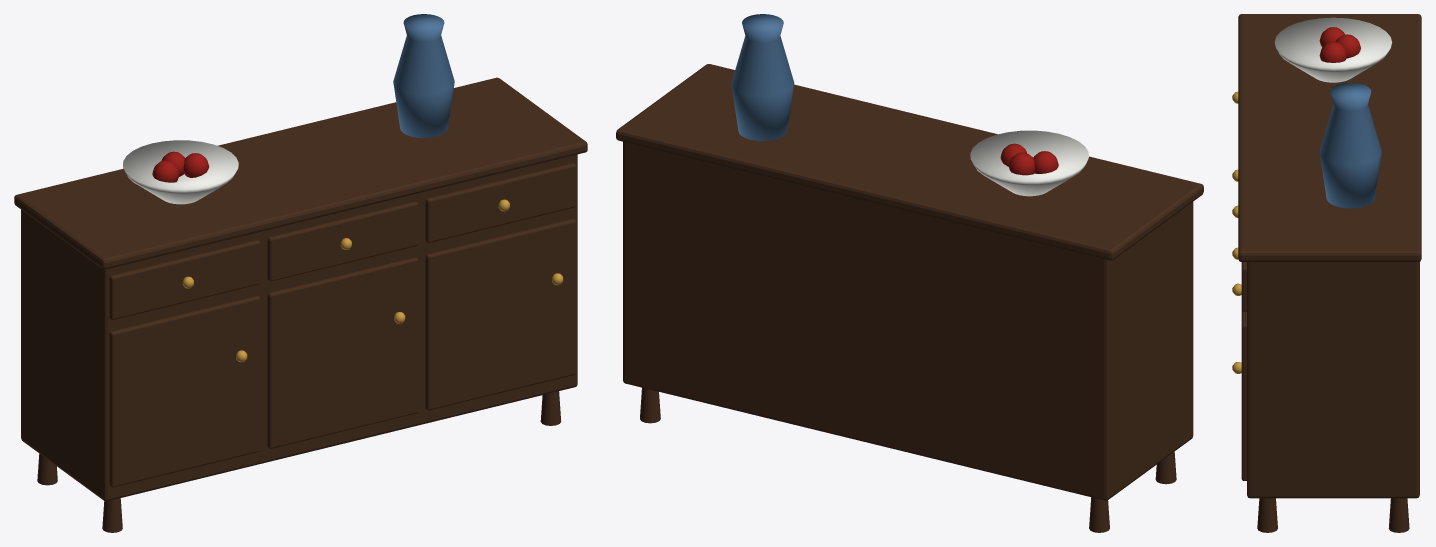
File: sideboard.glb
3 views of the same model, side by side, from view 1: azimuth 30°, elevation 25°; view 2: azimuth 150°, elevation 25°; view 3: azimuth 270°, elevation 25° (orthographic). The views are drawn at different scales.
Visible parts, largest first — view 1: sideboard; view 2: sideboard; view 3: sideboard.
Boxes of the visible parts, x1,y1,x2,y2 form: sideboard: (14,14,587,532); sideboard: (616,14,1203,532); sideboard: (1232,14,1421,532).
Bounding box in the file's own units: 1.64 × 1.26 × 0.5471.
